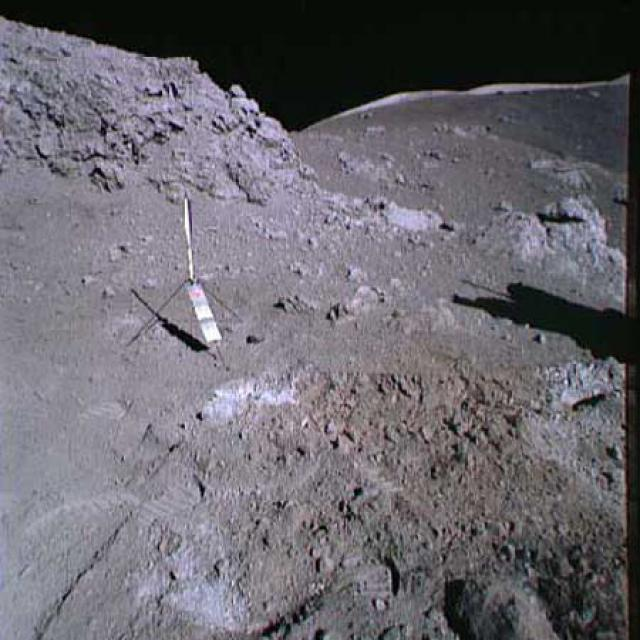artifact: (130, 189, 263, 366)
rock: (0, 14, 331, 209), (470, 181, 636, 314), (367, 185, 448, 241)
